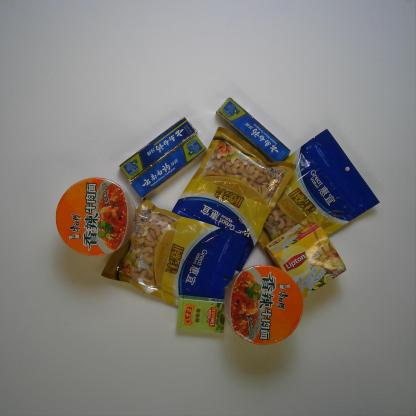Candy: (174, 293, 226, 335)
Dried Fruit: (167, 123, 298, 275), (98, 192, 257, 314), (257, 126, 382, 254)
Instant Drink: (263, 214, 348, 300)
Instant Noodles: (221, 264, 305, 347), (53, 175, 138, 257)
Personal Hygiene: (117, 115, 198, 185), (213, 95, 293, 164), (128, 132, 209, 200)
